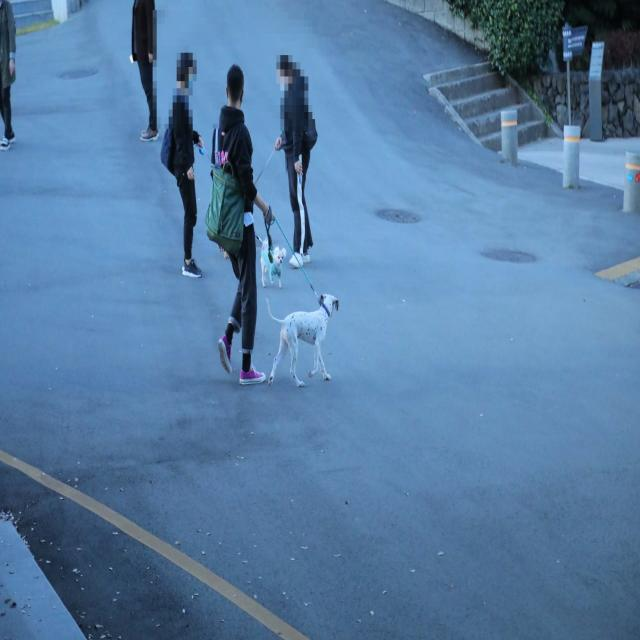Leashed_Dog: (239, 185, 339, 390), (182, 130, 286, 290)
